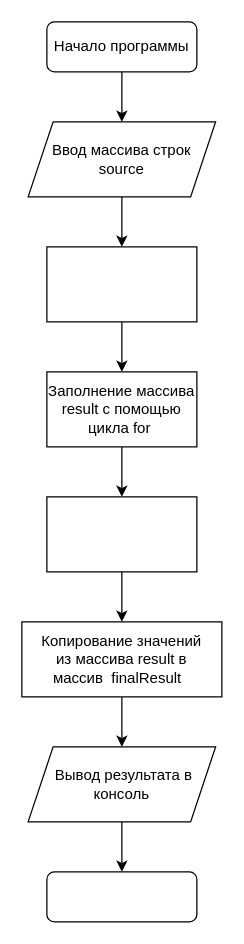
This 244x944 diagram has some shape labels left out. The shapes that lost their labels are listed below. From the top down, each one's box as (x1, y1, x2, y2) in pixels, then its label:
(46, 246, 197, 322): Создание массива result и счётчика
(46, 496, 197, 572): Создание массива finalResult
(46, 871, 197, 922): Конец программы
